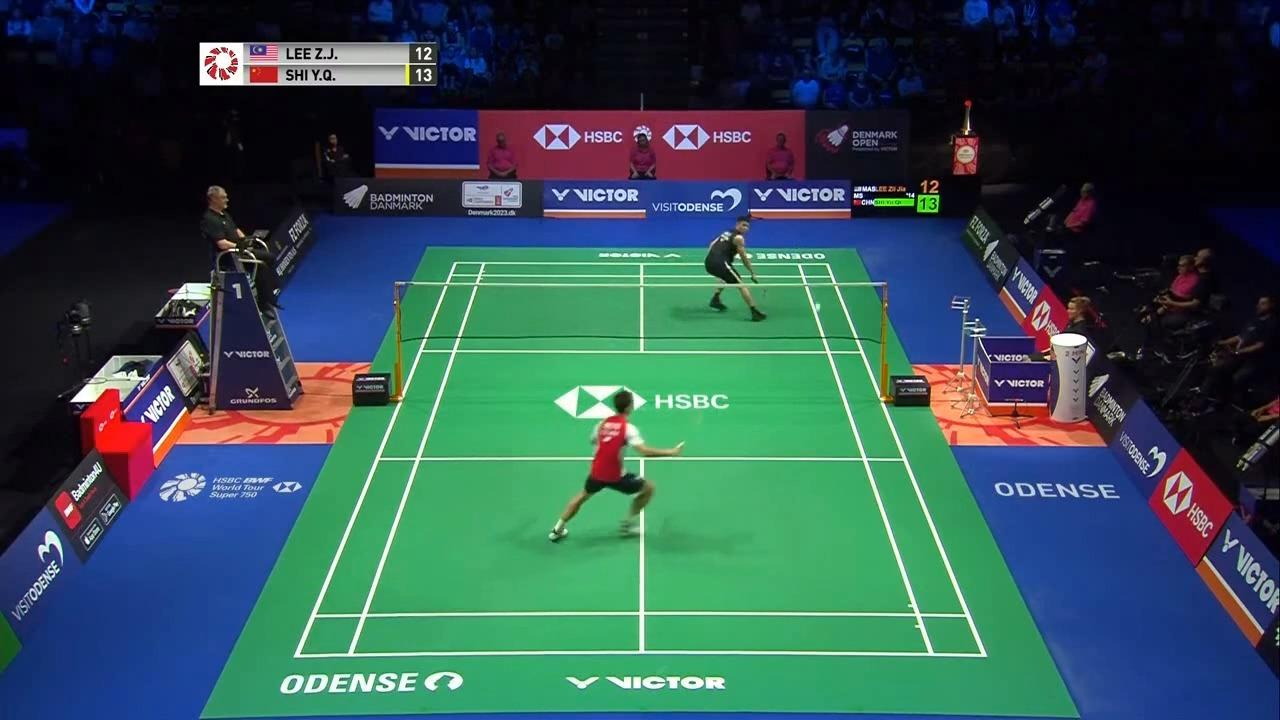shuttle: (813, 302, 822, 315)
